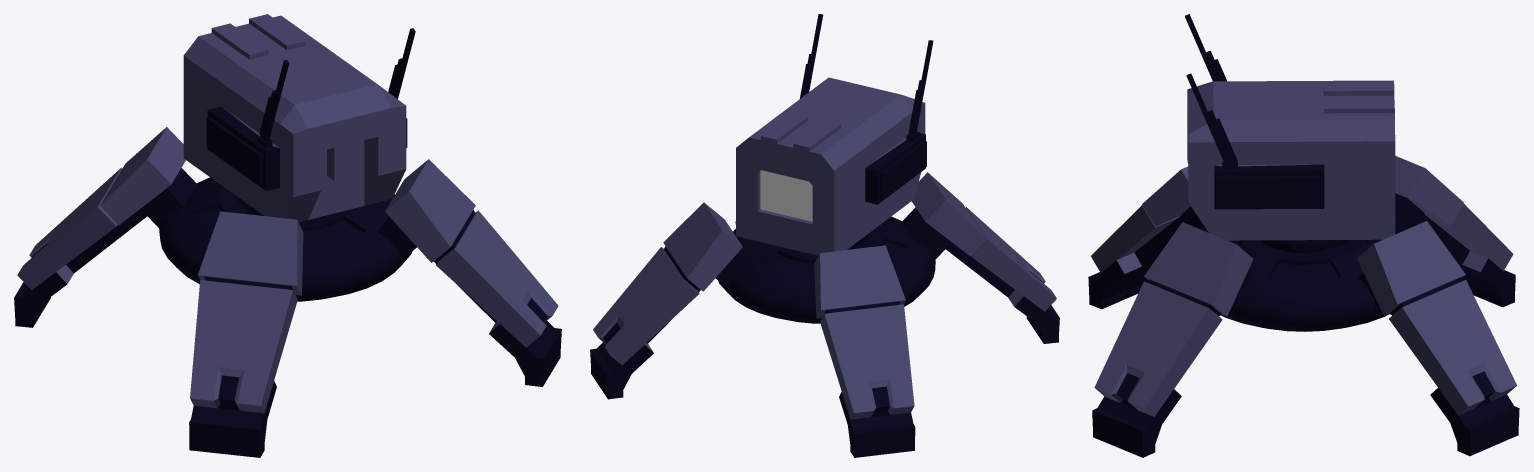
Rendered from ArañaIdle.fbx.
3 renders of one model, left to right at view 1: azimuth 30°, elevation 25°; view 2: azimuth 150°, elevation 25°; view 3: azimuth 270°, elevation 25°, orthographic. The views are drawn at different scales.
Visible parts, largest first — view 1: Head, Leg.01.BL, Leg.01.BR, Body, Leg.01.FL, Leg.00.FL, Leg.00.BR; view 2: Head, Leg.01.FL, Leg.01.FR, Body, Leg.01.BL, Leg.00.BL, Leg.00.FR; view 3: Head, Leg.01.BR, Leg.01.FR, Body, Leg.01.FL, Leg.01.BL, Neck, Leg.00.FL.
Part boxes in pixels (<box>): Head: <box>183,14,415,222</box>; Leg.01.BL: <box>189,211,303,457</box>; Leg.01.BR: <box>385,159,561,386</box>; Body: <box>159,177,412,301</box>; Leg.01.FL: <box>14,127,185,327</box>; Leg.00.FL: <box>140,168,198,228</box>; Leg.00.BR: <box>377,216,416,260</box>; Head: <box>736,14,933,255</box>; Leg.01.FL: <box>814,245,915,457</box>; Leg.01.FR: <box>590,202,742,399</box>; Body: <box>718,216,935,323</box>; Leg.01.BL: <box>911,172,1059,343</box>; Leg.00.BL: <box>901,207,951,259</box>; Leg.00.FR: <box>715,251,748,289</box>; Head: <box>1185,14,1395,240</box>; Leg.01.BR: <box>1092,222,1253,457</box>; Leg.01.FR: <box>1357,221,1519,456</box>; Body: <box>1201,223,1406,331</box>; Leg.01.FL: <box>1395,156,1515,307</box>; Leg.01.BL: <box>1088,166,1190,309</box>; Neck: <box>1260,240,1347,252</box>; Leg.00.FL: <box>1395,193,1424,228</box>.
Bounding box in the file's own units: 473 × 406 × 487.
